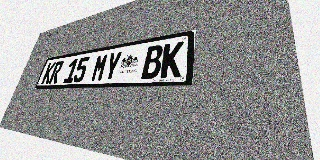1: (63, 58, 80, 83)
5: (72, 56, 90, 83)
B: (141, 44, 164, 79)
K: (160, 41, 184, 78), (41, 62, 56, 84)
M: (90, 53, 109, 82)
R: (48, 61, 64, 84)
Y: (102, 51, 123, 81)
